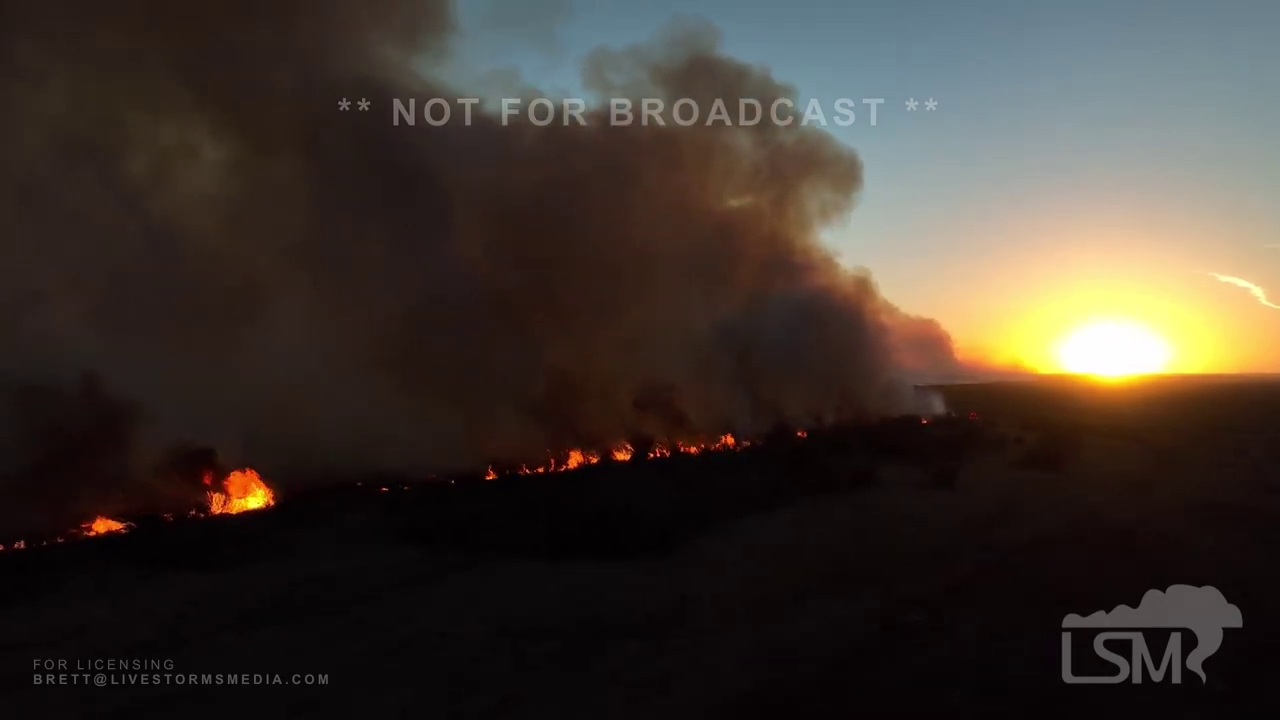forest_fire: (506, 434, 751, 473), (188, 468, 274, 517), (77, 515, 133, 536), (484, 466, 502, 479)
